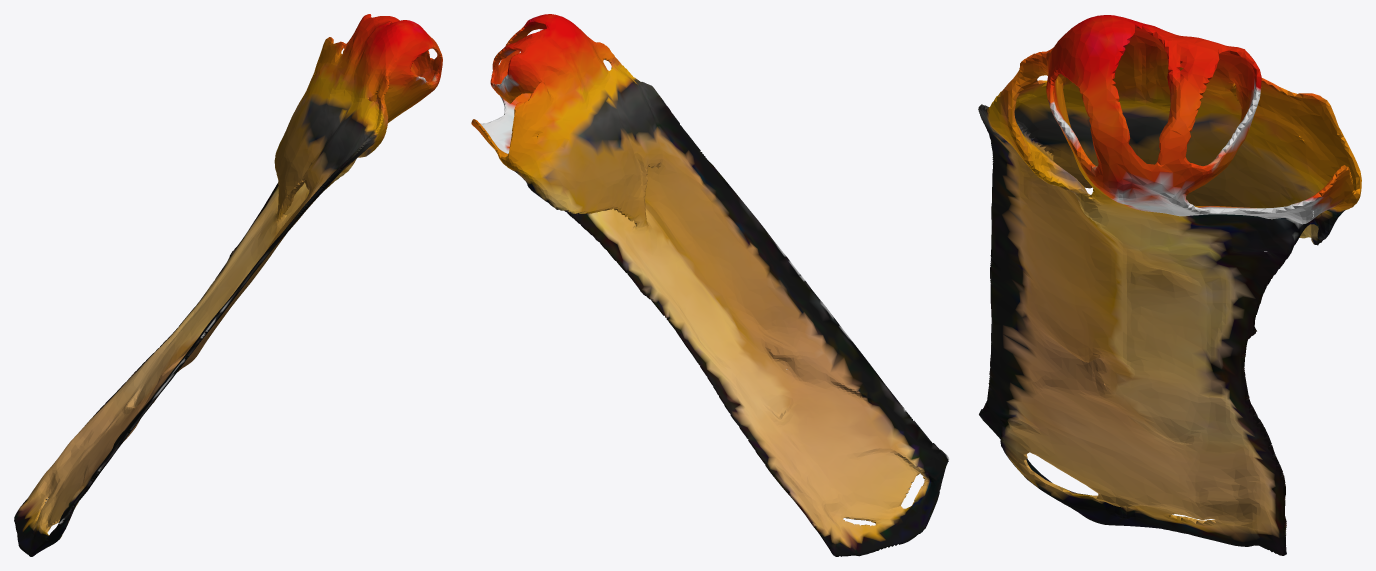
Rendered from staff.glb.
3 renders of one model, left to right at view 1: azimuth 30°, elevation 25°; view 2: azimuth 150°, elevation 25°; view 3: azimuth 270°, elevation 25°, orthographic. The views are drawn at different scales.
Visible parts, largest first — view 1: geometry_0; view 2: geometry_0; view 3: geometry_0.
Part boxes in pixels (<box>): geometry_0: <box>14,14,442,556</box>; geometry_0: <box>471,14,949,556</box>; geometry_0: <box>978,15,1361,555</box>.
Size of the model in its own units: 0.9048 by 0.9062 by 0.3653.
